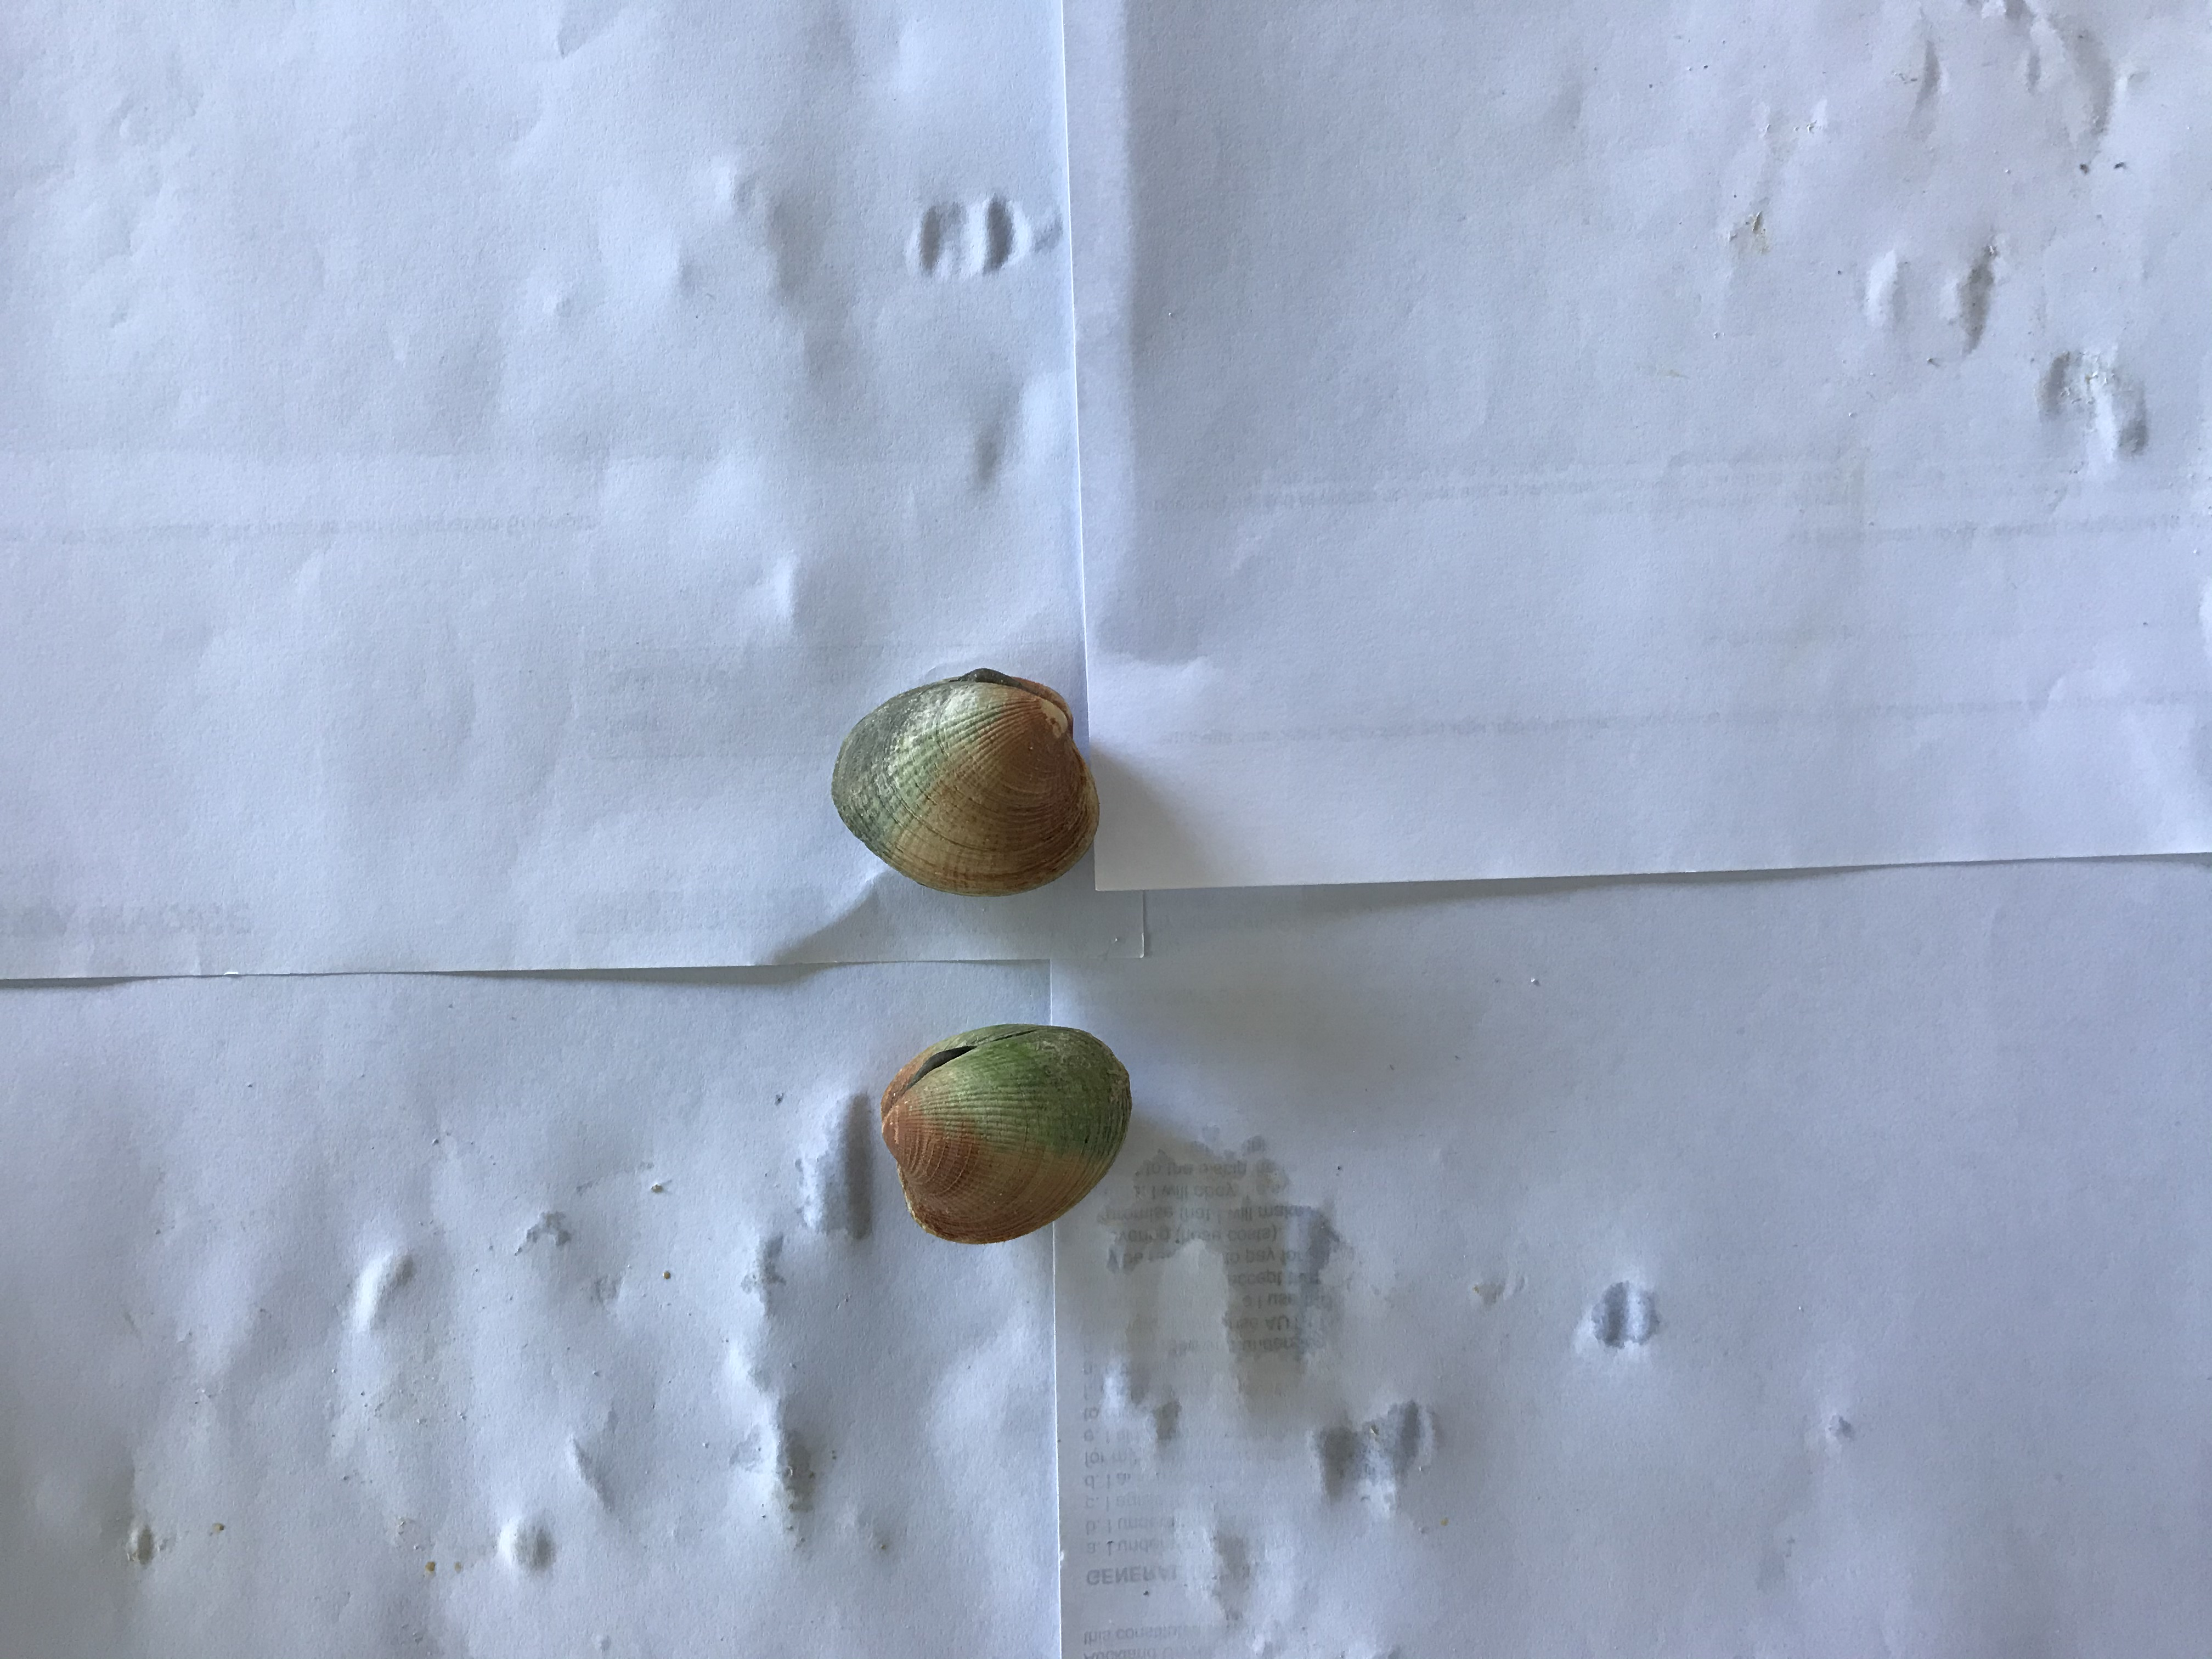cockle: (820, 662, 1111, 899), (878, 1012, 1143, 1249)
